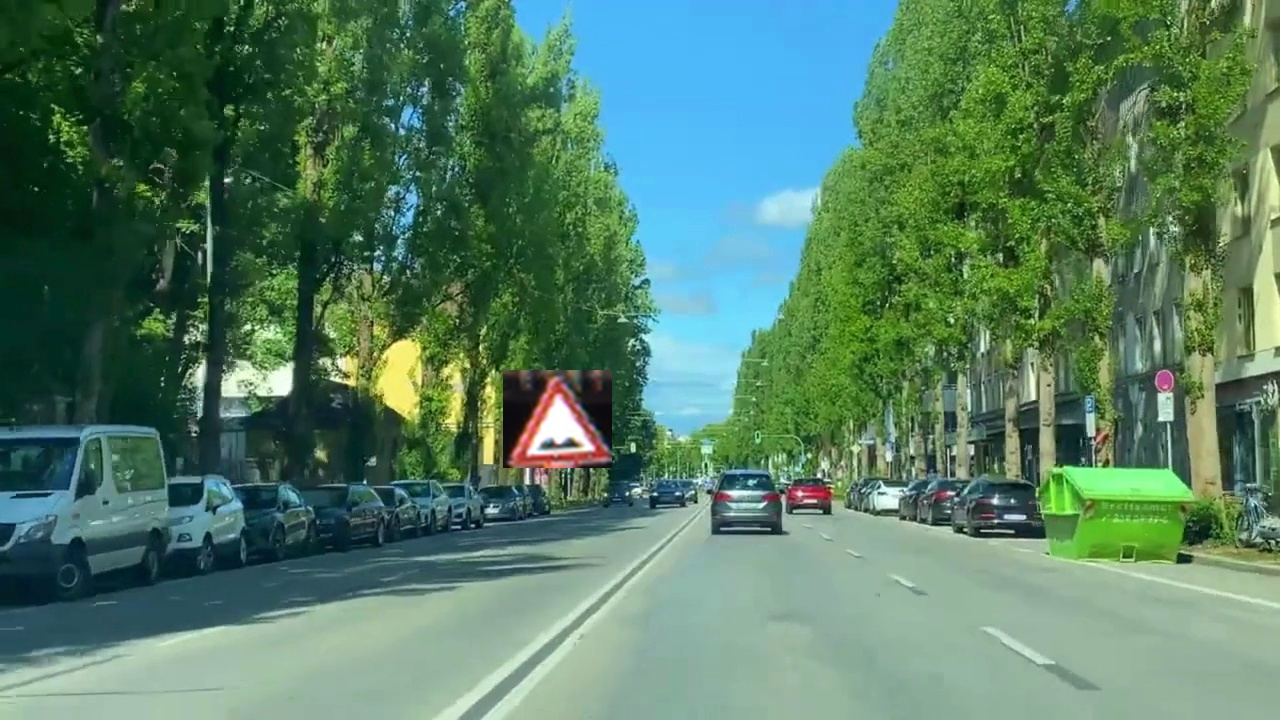Bumpy road: (503, 370, 612, 468)
